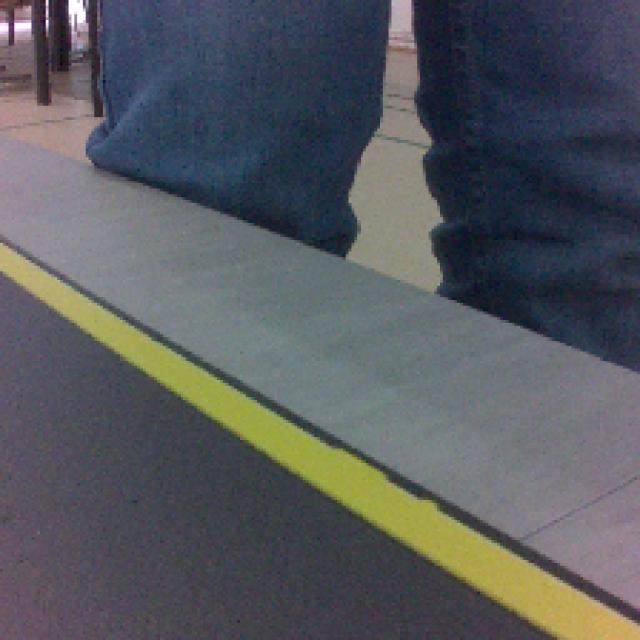Pedestrian crosswalk: (3, 241, 640, 640)
